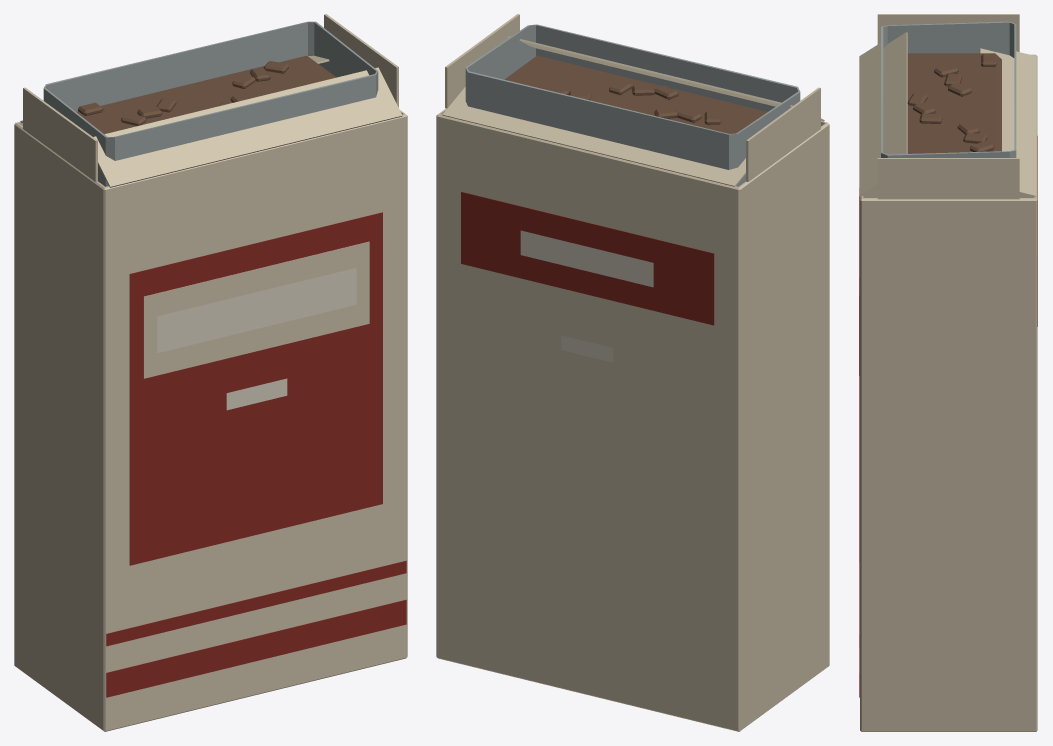
The model's file is cereal-box-bba84c820e3e.glb.
3 views of the same model, side by side, from view 1: azimuth 30°, elevation 25°; view 2: azimuth 150°, elevation 25°; view 3: azimuth 270°, elevation 25° (orthographic). The views are drawn at different scales.
Visible parts, largest first — view 1: paper, enamel-red, glass-clear, decal-ink, wood; view 2: paper, glass-clear, enamel-red, wood, decal-ink; view 3: paper, wood, glass-clear, enamel-red.
Part boxes in pixels (box(x1,y1,x2,y2)): paper: box(14, 14, 407, 731); enamel-red: box(106, 212, 406, 697); glass-clear: box(43, 21, 378, 186); decal-ink: box(157, 268, 356, 410); wood: box(76, 55, 336, 134); paper: box(436, 14, 829, 731); glass-clear: box(465, 24, 800, 186); enamel-red: box(461, 191, 714, 325); wood: box(504, 55, 767, 133); decal-ink: box(520, 230, 653, 362); paper: box(859, 14, 1037, 731); wood: box(907, 53, 1001, 153); glass-clear: box(881, 21, 1016, 157); enamel-red: box(859, 136, 1037, 697).
Size of the model in its own units: 0.155 by 0.285 by 0.0813.
